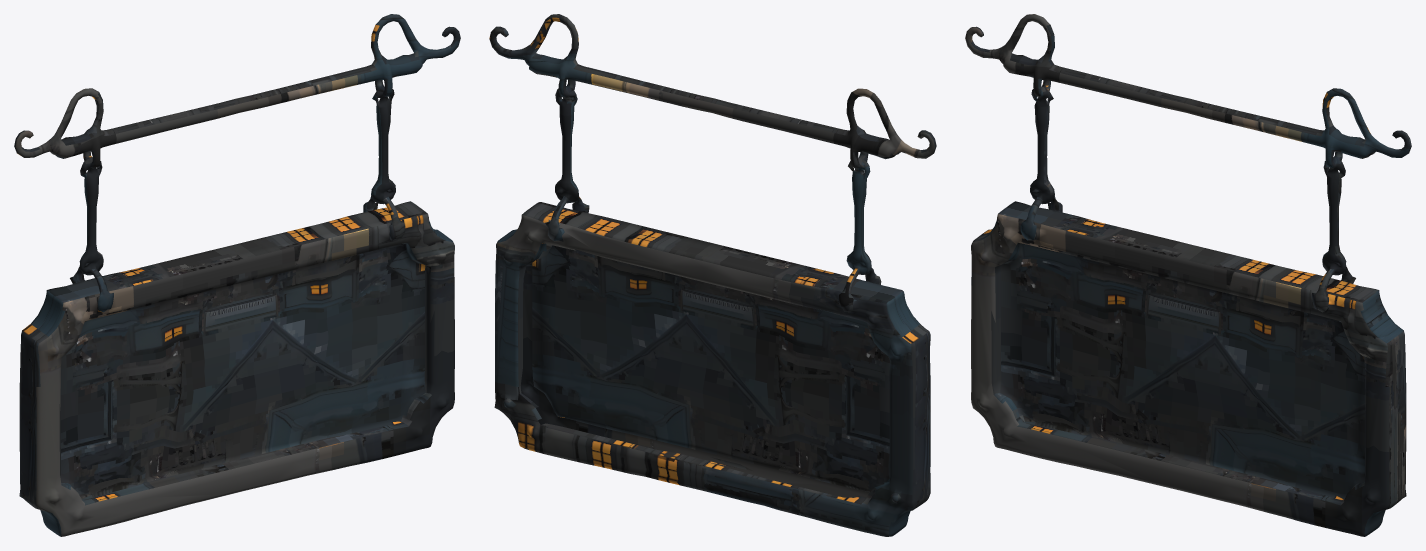
File: Plate_Decimate.fbx
3 views of the same model, side by side, from view 1: azimuth 30°, elevation 25°; view 2: azimuth 150°, elevation 25°; view 3: azimuth 330°, elevation 25° (orthographic).
Parts seen in each view (by area): view 1: model; view 2: model; view 3: model.
Part boxes in pixels (left/top/right/bottom): model: left=14, top=14, right=460, bottom=536; model: left=489, top=14, right=936, bottom=536; model: left=965, top=14, right=1411, bottom=536.
Bounding box in the file's own units: 1.9 × 1.78 × 0.2375.
